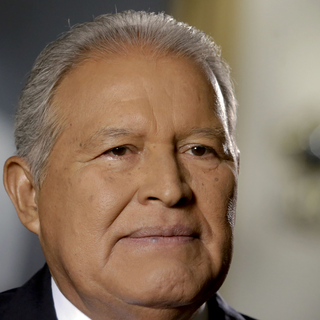eye: (93, 140, 141, 164), (182, 139, 223, 164)
